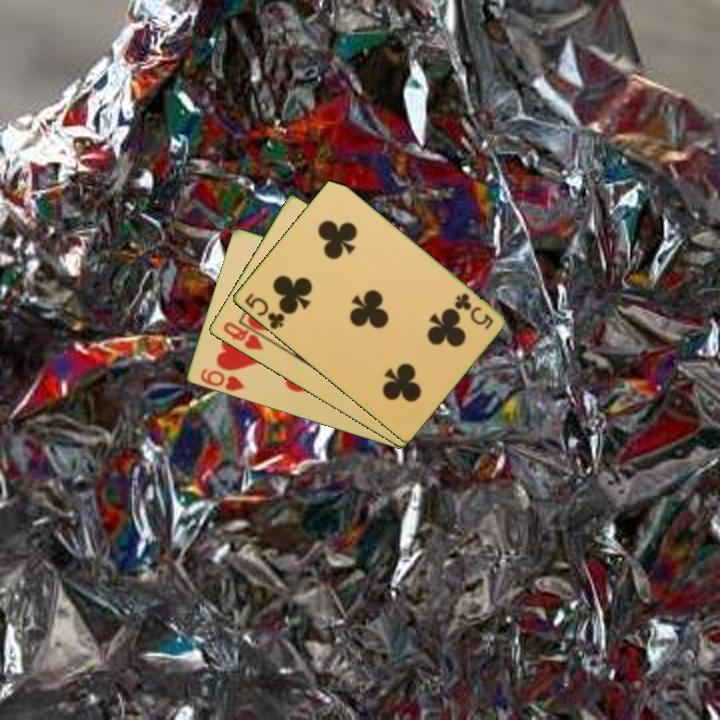5c: (240, 290, 288, 333), (450, 290, 496, 333)
6h: (196, 365, 247, 394)
Qh: (219, 318, 266, 353)
